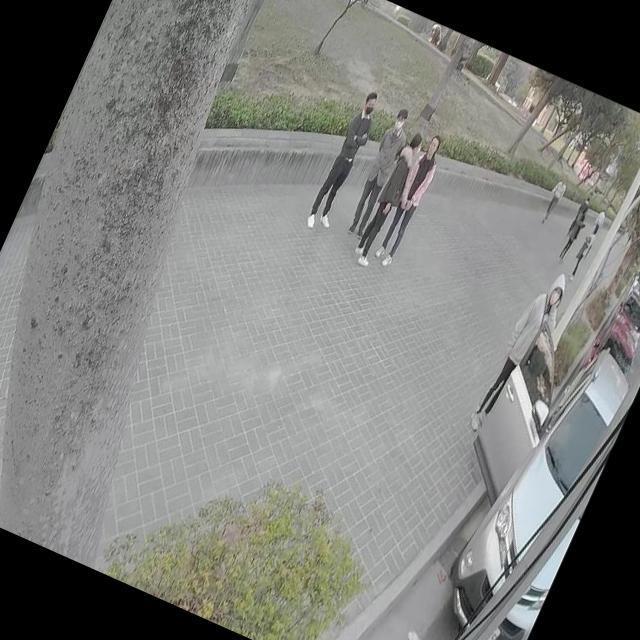person: (467, 261, 572, 441), (346, 120, 434, 271), (304, 87, 386, 233), (373, 134, 449, 270), (342, 106, 416, 240), (535, 164, 575, 226), (567, 220, 602, 281), (556, 205, 591, 265)
